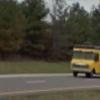buses: (71, 43, 100, 78)
